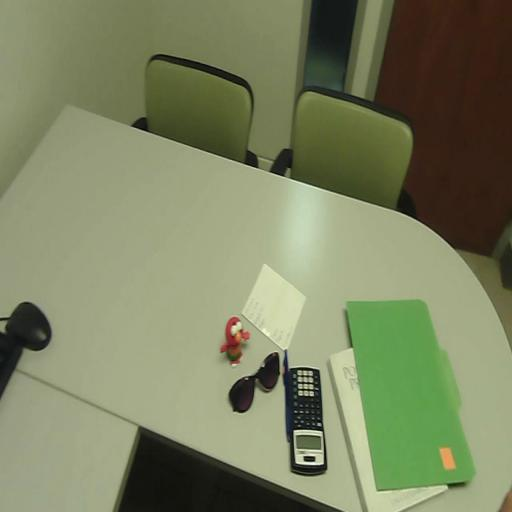pen: (282, 349, 291, 442)
